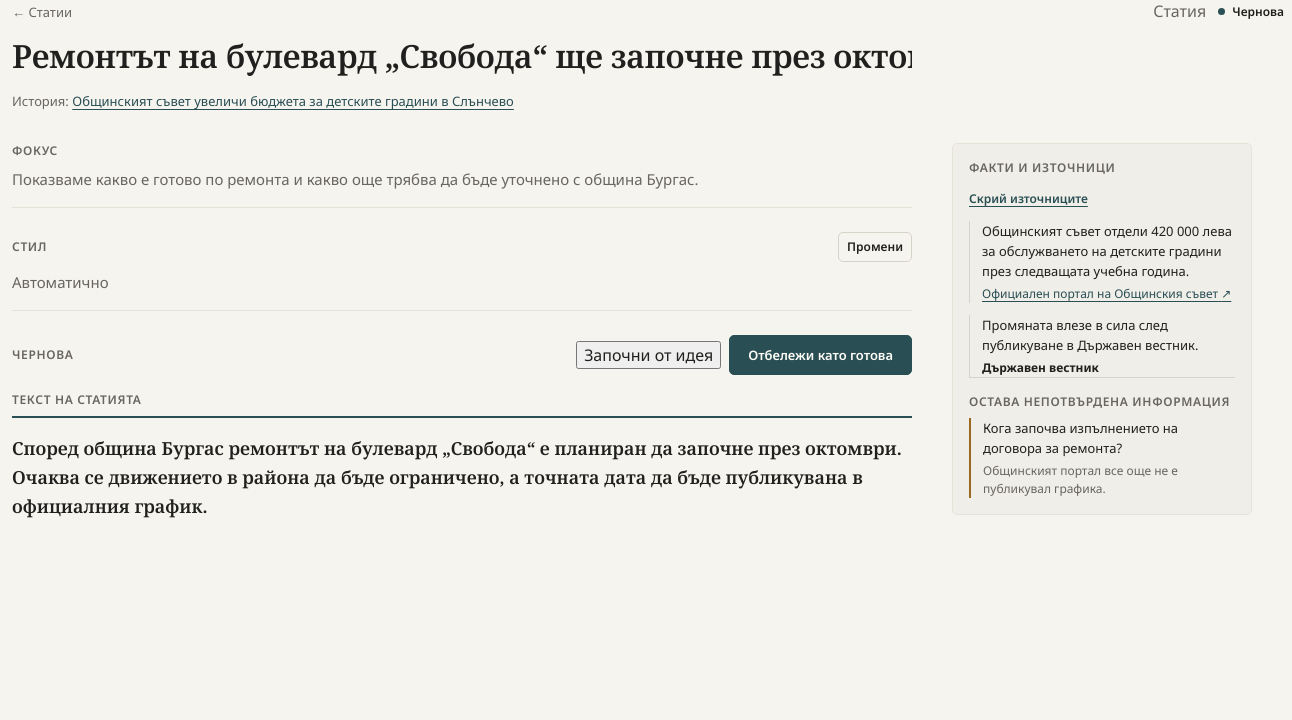
Test: V1.2-G3 §36 — the Draft is the centre of the screen › collapses the support rail and gives the writing surface the width back
This screenshot has width=1292, height=720.
Click the button "Скрий източниците". click: (1028, 198)
box: [969,188,1088,209]
(page scrolled)
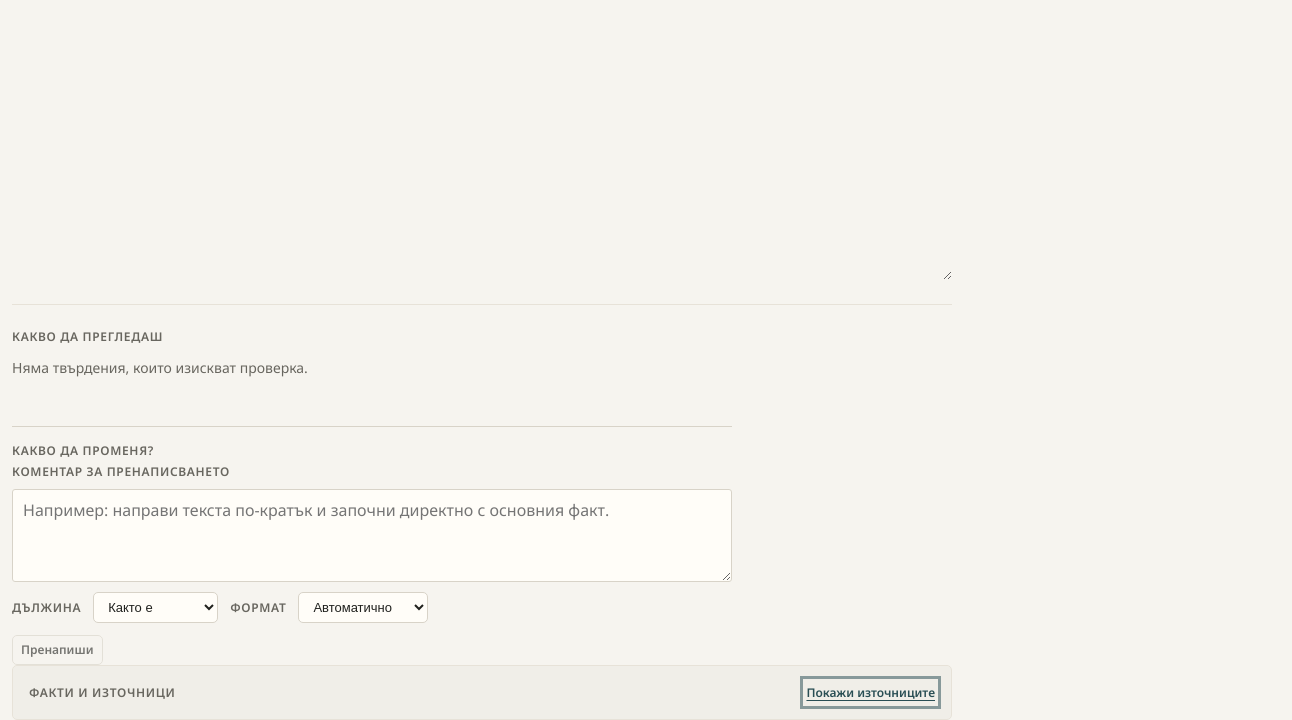
Expected: the button "Покажи източниците" is collapsed
Click the button "Покажи източниците". click: (871, 692)
box: [806,682,935,703]
(page scrolled)
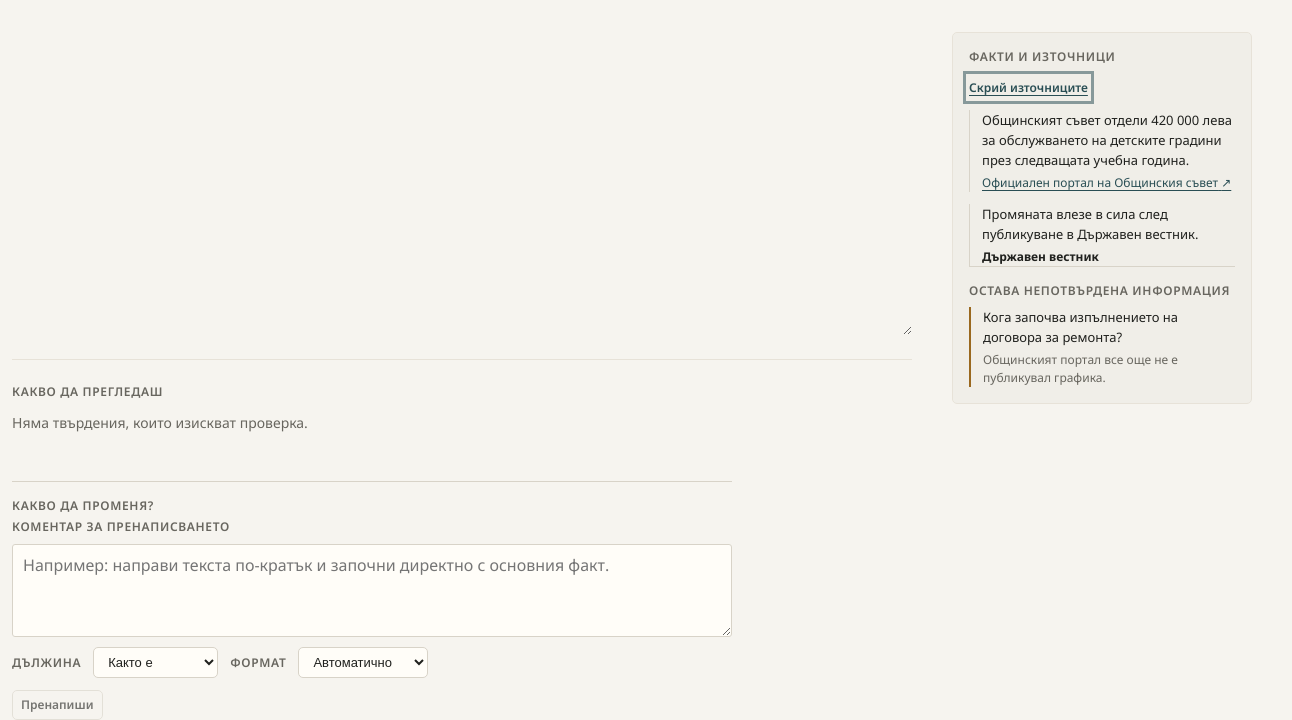
Expected: the button "Скрий източниците" is expanded, [969,77,1088,98]
